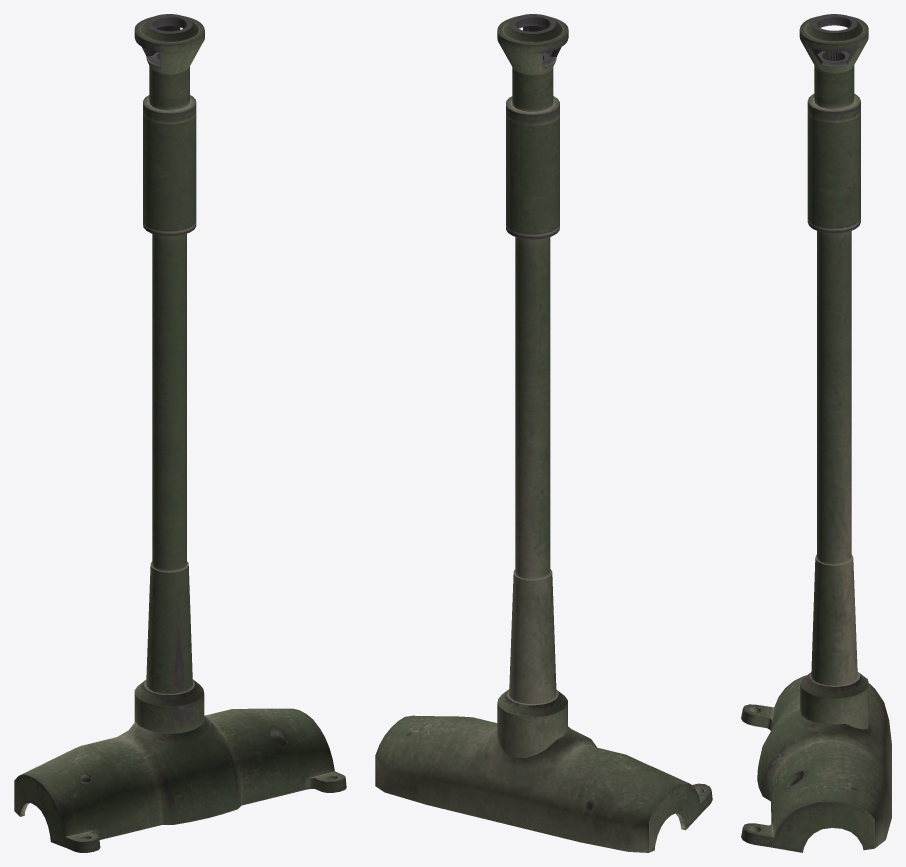
The model's file is Gun_07.glb.
3 renders of one model, left to right at view 1: azimuth 30°, elevation 25°; view 2: azimuth 150°, elevation 25°; view 3: azimuth 270°, elevation 25°, orthographic. The views are drawn at different scales.
Parts seen in each view (by area): view 1: set_0_group_0; view 2: set_0_group_0; view 3: set_0_group_0.
Part boxes in pixels (<box>): set_0_group_0: <box>14,14,346,852</box>; set_0_group_0: <box>375,14,712,852</box>; set_0_group_0: <box>741,14,891,852</box>.
Size of the model in its own units: 1.36 by 3.73 by 0.6678.
Materials: 1 (1 with a texture image).
